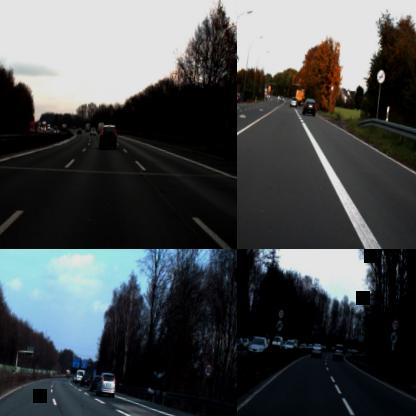restriction ends -overtaking-: (388, 330, 398, 344), (275, 318, 283, 332)
restriction ends 80: (376, 69, 386, 83)
speed limit 100: (202, 360, 214, 378)
speed limit 70: (390, 316, 400, 332), (276, 306, 285, 320)
